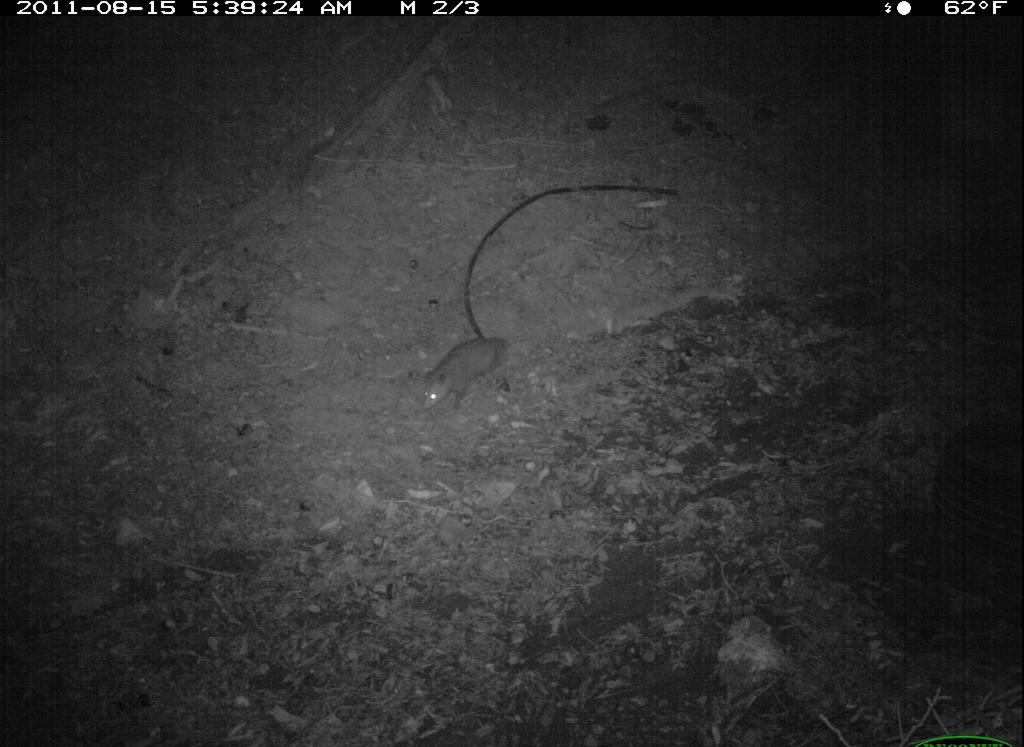opossum: (419, 323, 529, 418)
